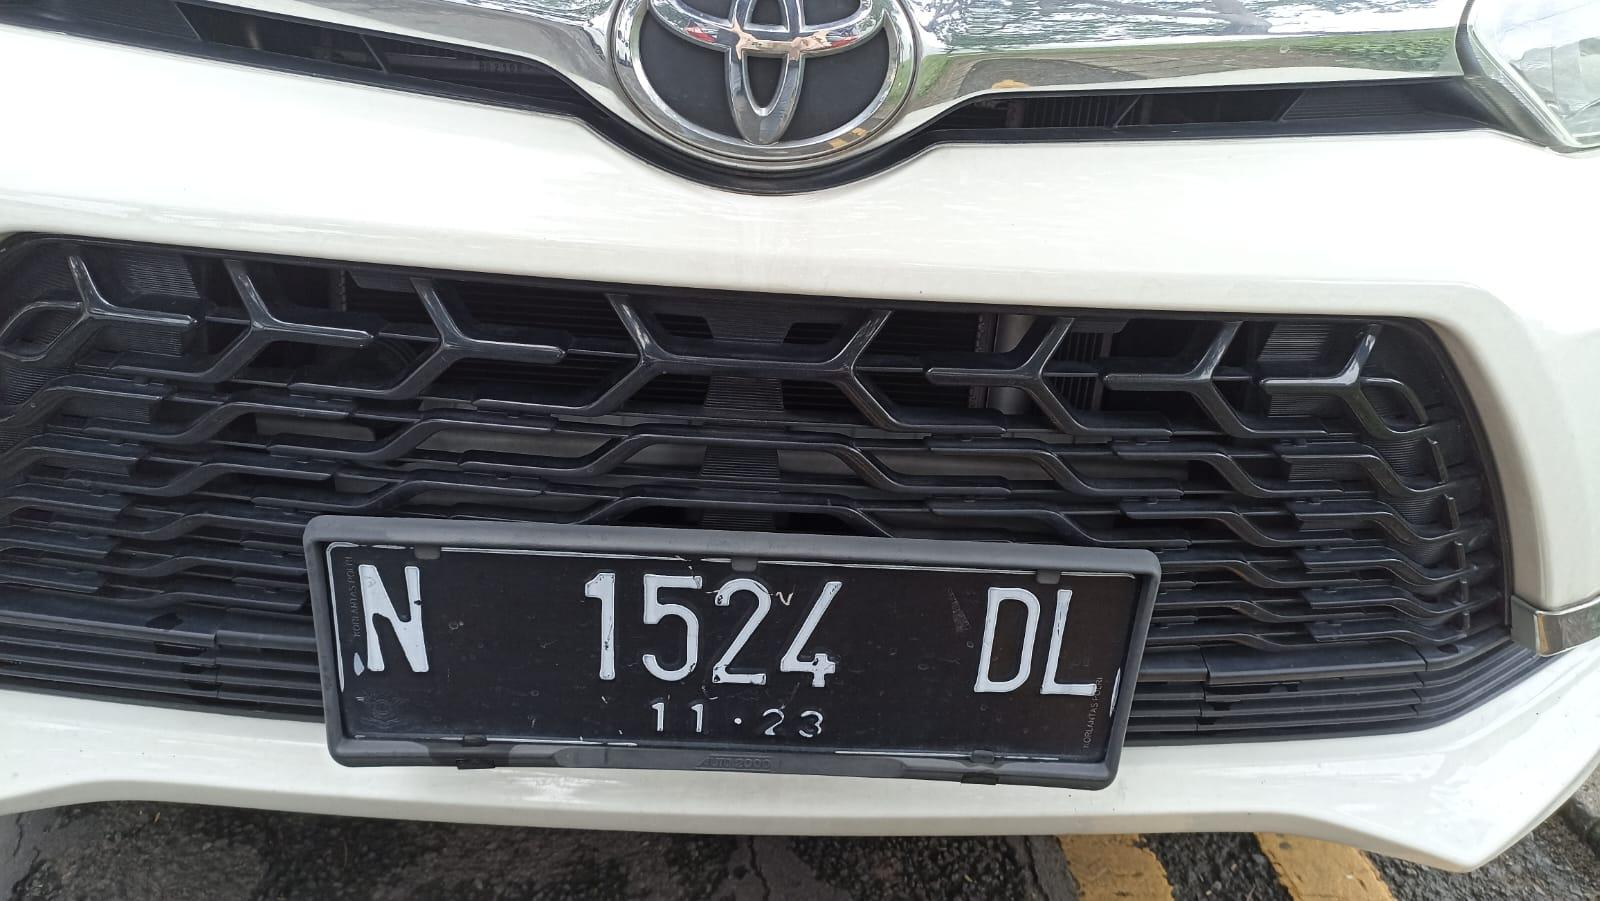plat: (307, 515, 1159, 788)
